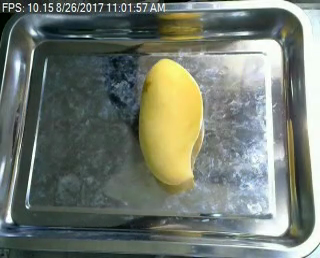Mango: (133, 55, 213, 192)
